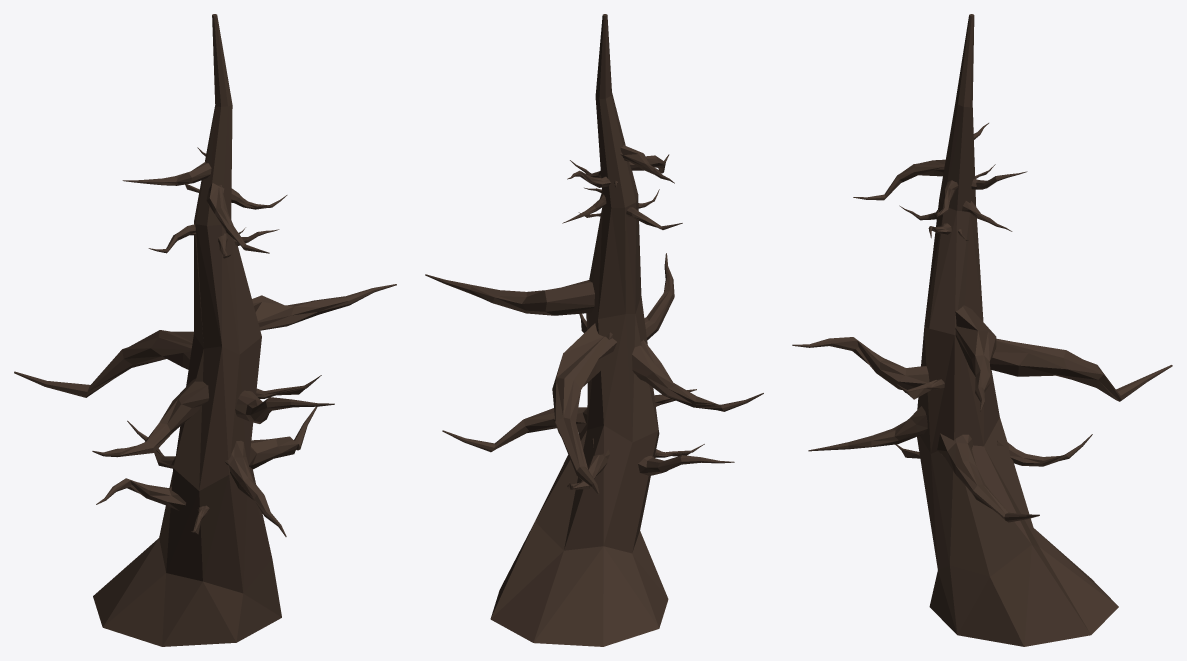
Rendered from A_Arvore7.fbx.
3 renders of one model, left to right at view 1: azimuth 30°, elevation 25°; view 2: azimuth 150°, elevation 25°; view 3: azimuth 270°, elevation 25°, orthographic. The views are drawn at different scales.
Visible parts, largest first — view 1: Cylinder.001; view 2: Cylinder.001; view 3: Cylinder.001.
Boxes of the visible parts, x1,y1,x2,y2 form: Cylinder.001: (14, 14, 396, 646); Cylinder.001: (425, 14, 763, 646); Cylinder.001: (792, 14, 1172, 646).
Size of the model in its own units: 656 by 1155 by 673.
